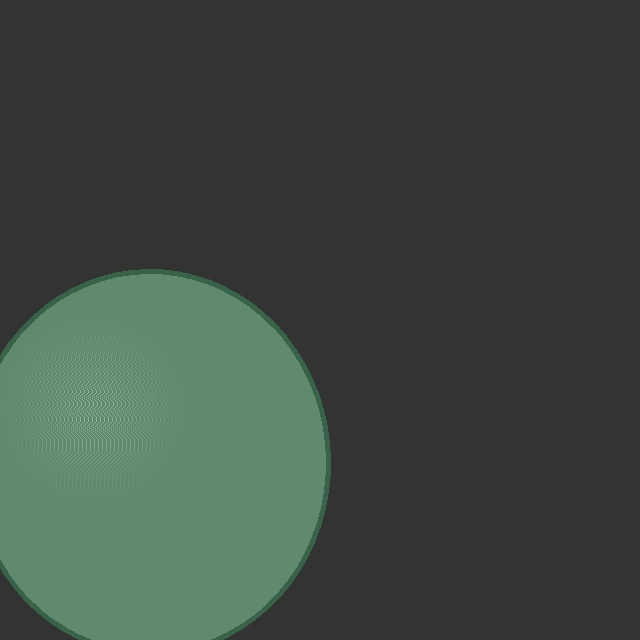lens: (0, 271, 328, 640)
